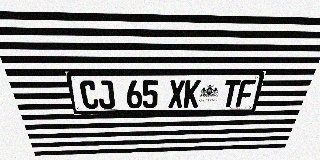5: (142, 80, 158, 108)
6: (126, 80, 142, 108)
C: (79, 80, 99, 109)
F: (235, 80, 256, 107)
J: (96, 80, 115, 109)
K: (183, 80, 201, 108)
T: (221, 80, 241, 107)
X: (168, 80, 185, 108)
